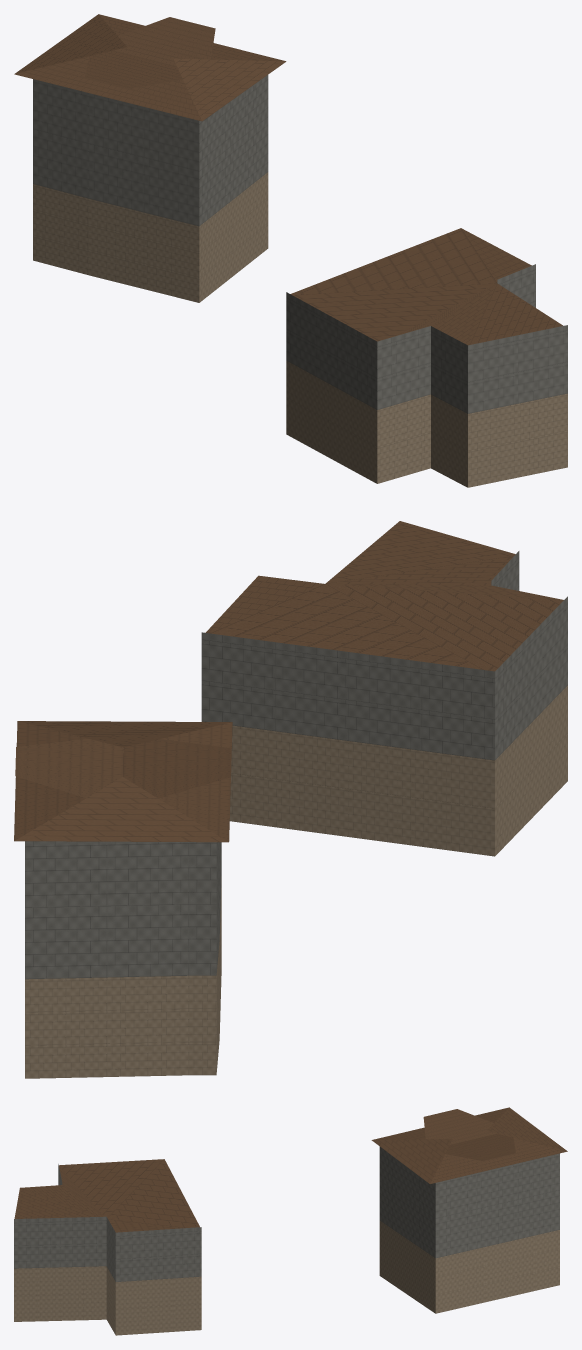
The model's file is bld_c34_46_240.gltf.
3 views of the same model, one above another, from view 1: azimuth 30°, elevation 25°; view 2: azimuth 150°, elevation 25°; view 3: azimuth 270°, elevation 25° (orthographic). The views are drawn at different scales.
Visible parts, largest first — view 1: bld_c34_46_240; view 2: bld_c34_46_240; view 3: bld_c34_46_240.
Part boxes in pixels (bbox=[...]): bld_c34_46_240: bbox=[14, 14, 567, 487]; bld_c34_46_240: bbox=[14, 521, 567, 1078]; bld_c34_46_240: bbox=[14, 1107, 567, 1335].
Size of the model in its own units: 17.39 by 13.9 by 46.23.
4 materials, 4 textured.
